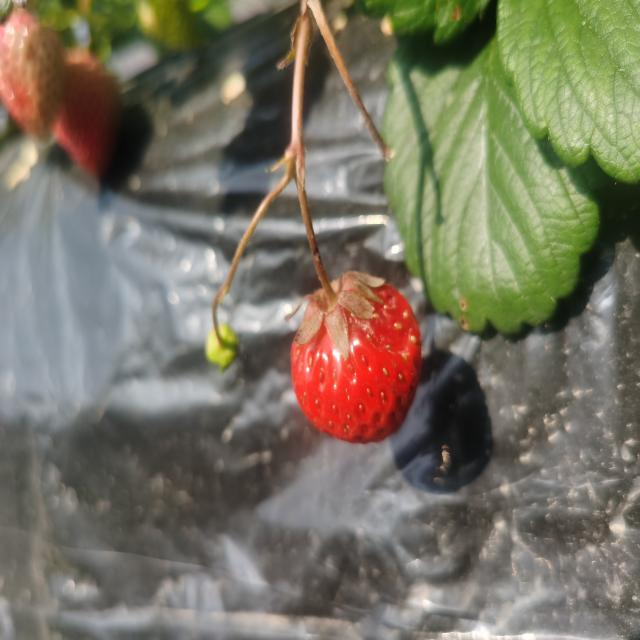stem: (306, 225, 340, 310)
strawberry: (291, 273, 422, 443), (1, 3, 68, 146), (57, 46, 116, 177)
